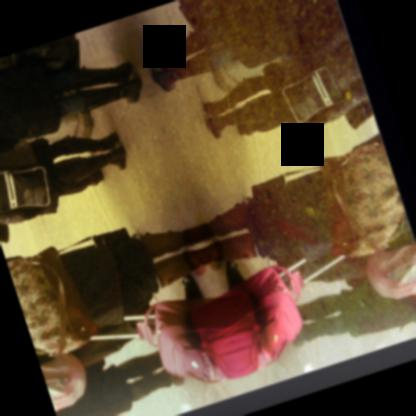backpack: (37, 349, 89, 411)
handbag: (6, 245, 98, 355), (0, 163, 52, 212)
suitcase: (92, 289, 261, 380)
